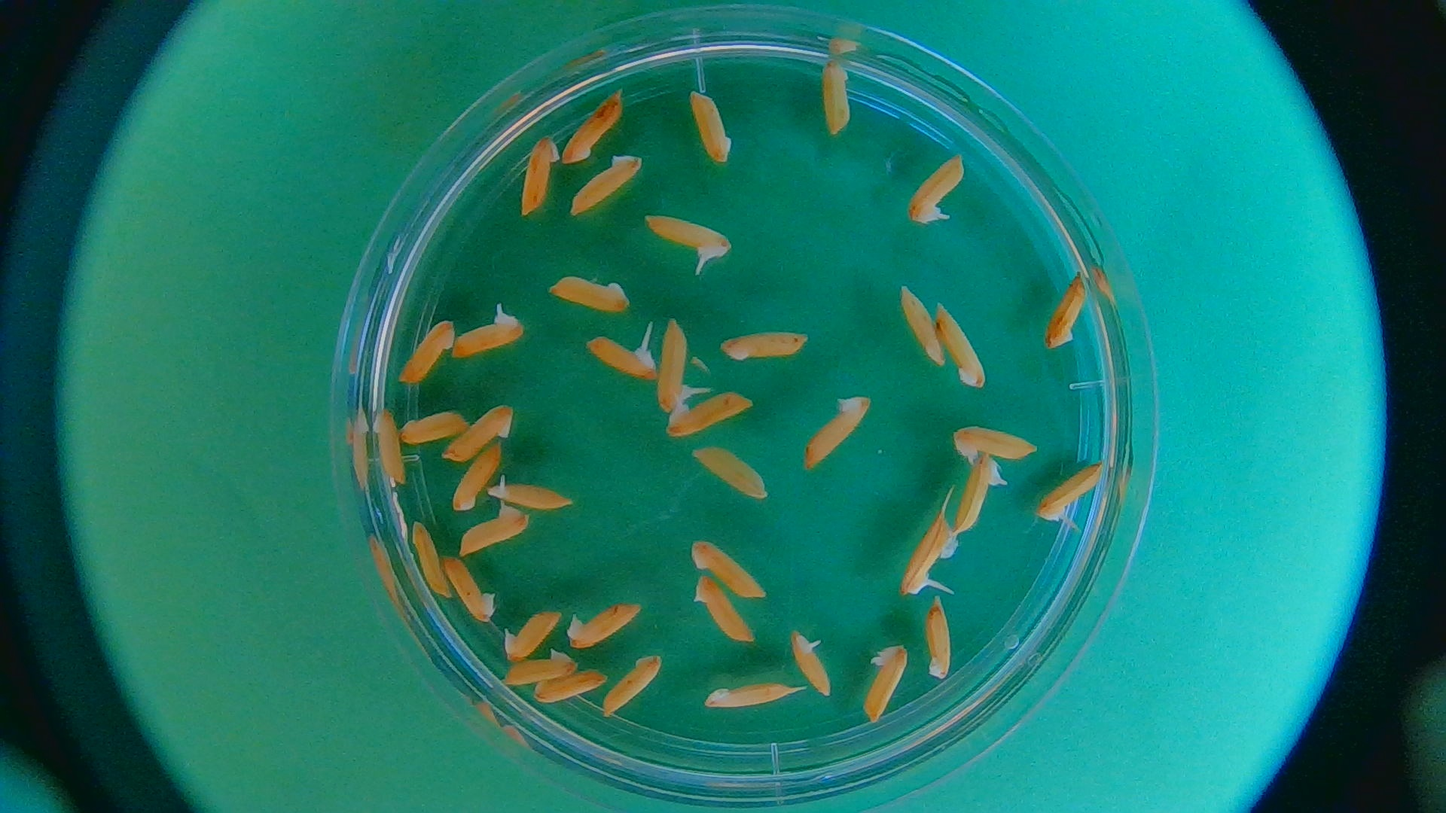no: (801, 389, 873, 477), (683, 437, 773, 504), (931, 297, 989, 398), (557, 84, 624, 168), (438, 396, 520, 464), (689, 534, 769, 601), (567, 151, 648, 216), (946, 419, 1039, 475), (891, 282, 950, 370), (689, 575, 758, 650), (439, 550, 504, 624), (604, 654, 670, 721), (392, 318, 455, 387), (545, 273, 637, 318), (569, 601, 648, 650), (514, 132, 558, 219), (686, 85, 734, 164), (1045, 266, 1089, 352), (408, 519, 453, 602), (460, 505, 529, 559), (865, 646, 911, 726), (365, 404, 407, 491), (452, 442, 502, 513), (813, 54, 854, 139), (920, 593, 959, 682), (718, 327, 813, 361), (497, 650, 576, 690), (701, 682, 807, 711), (529, 668, 609, 702), (396, 413, 471, 448)
yes: (645, 212, 734, 263), (455, 301, 527, 362), (664, 389, 749, 439), (907, 150, 966, 221), (905, 513, 956, 593), (1039, 461, 1100, 524), (498, 607, 564, 663), (589, 337, 662, 386), (956, 450, 999, 531), (656, 321, 693, 413), (483, 480, 571, 512), (789, 632, 831, 699)
